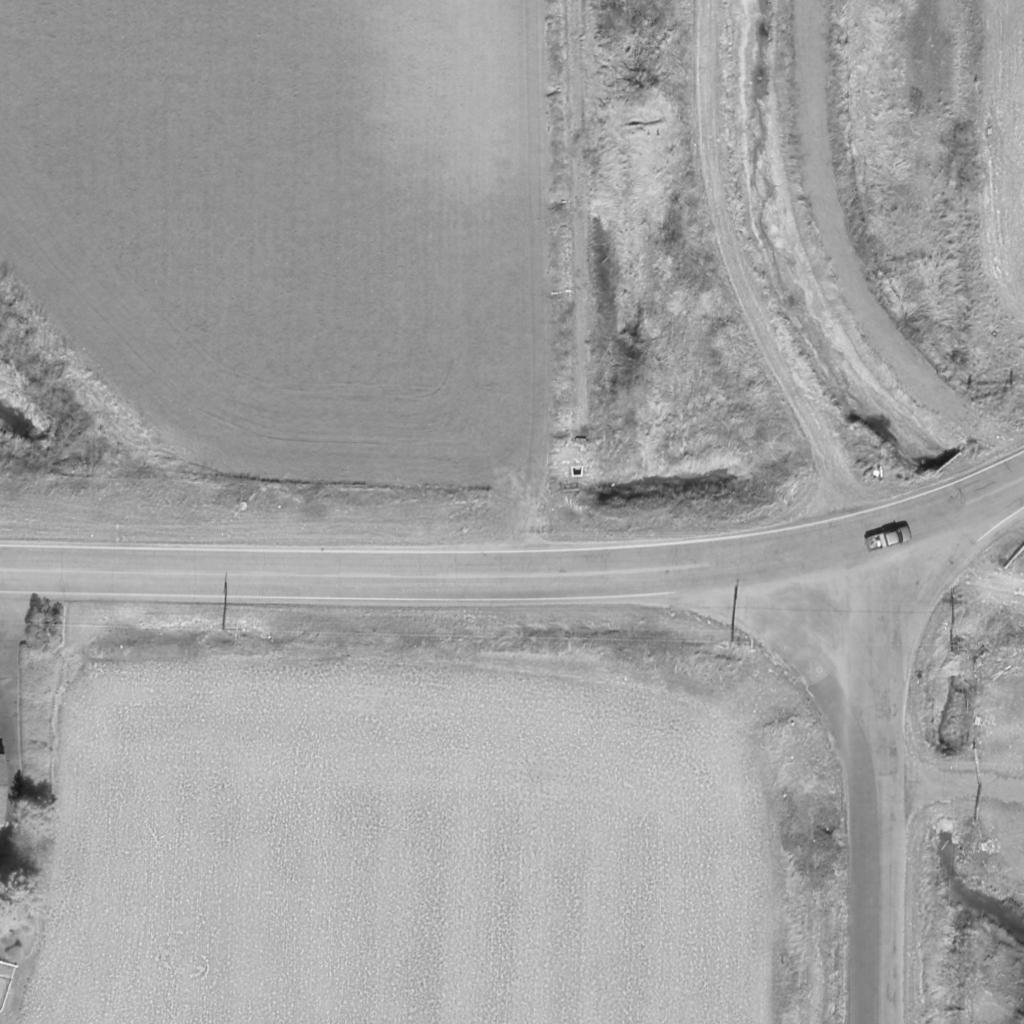vehicle: (864, 526, 914, 554)
